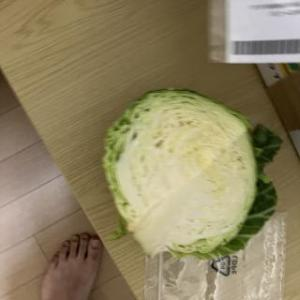cabbage: (102, 86, 284, 268)
